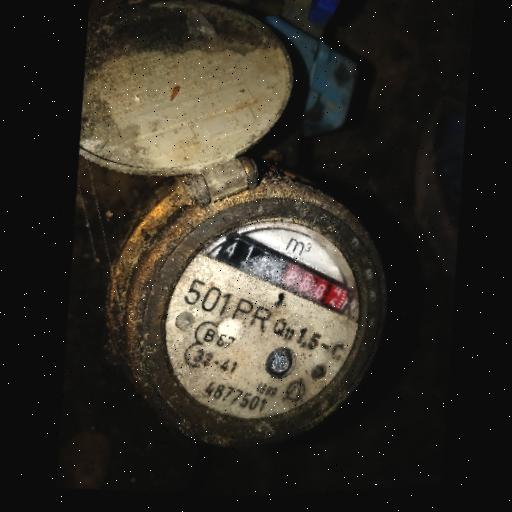1: (230, 239, 262, 276), (246, 246, 278, 283)
4: (217, 233, 245, 267), (321, 282, 350, 314)
6: (261, 252, 291, 288), (290, 267, 320, 303)
8: (276, 260, 306, 296), (307, 275, 335, 308)
border_water_meter_number: (207, 218, 365, 328)
